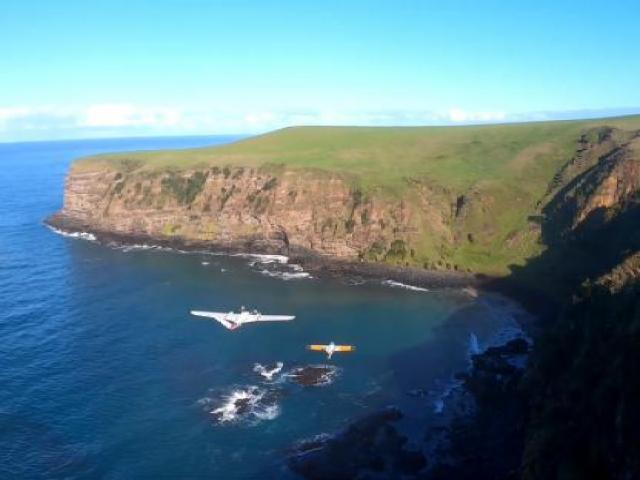uav: (189, 308, 297, 332), (306, 340, 356, 356)
